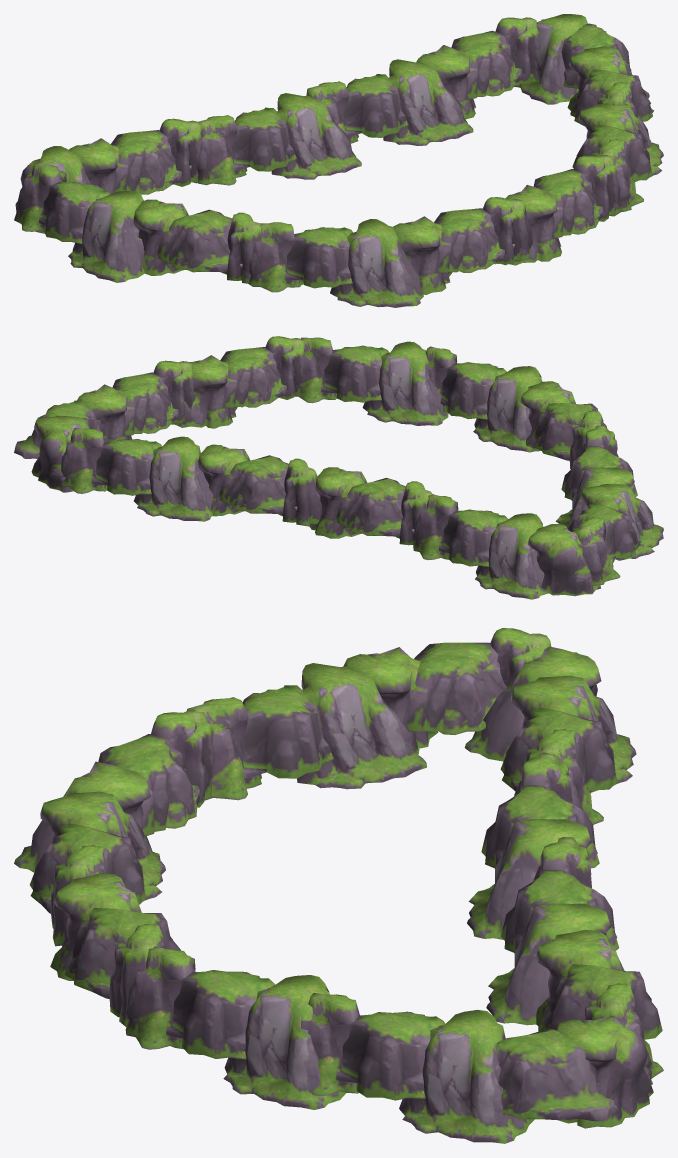
The model's file is rock_g.fbx.
3 views of the same model, one above another, from view 1: azimuth 30°, elevation 25°; view 2: azimuth 150°, elevation 25°; view 3: azimuth 270°, elevation 25° (orthographic). The views are drawn at different scales.
Parts seen in each view (by area): view 1: rock_g; view 2: rock_g; view 3: rock_g.
Boxes of the visible parts, box(x1,y1,x2,y2) form: rock_g: box(14, 14, 663, 307); rock_g: box(14, 336, 663, 599); rock_g: box(14, 628, 663, 1143).
Size of the model in its own units: 9090 by 860 by 5664.
1 material, 1 textured.
